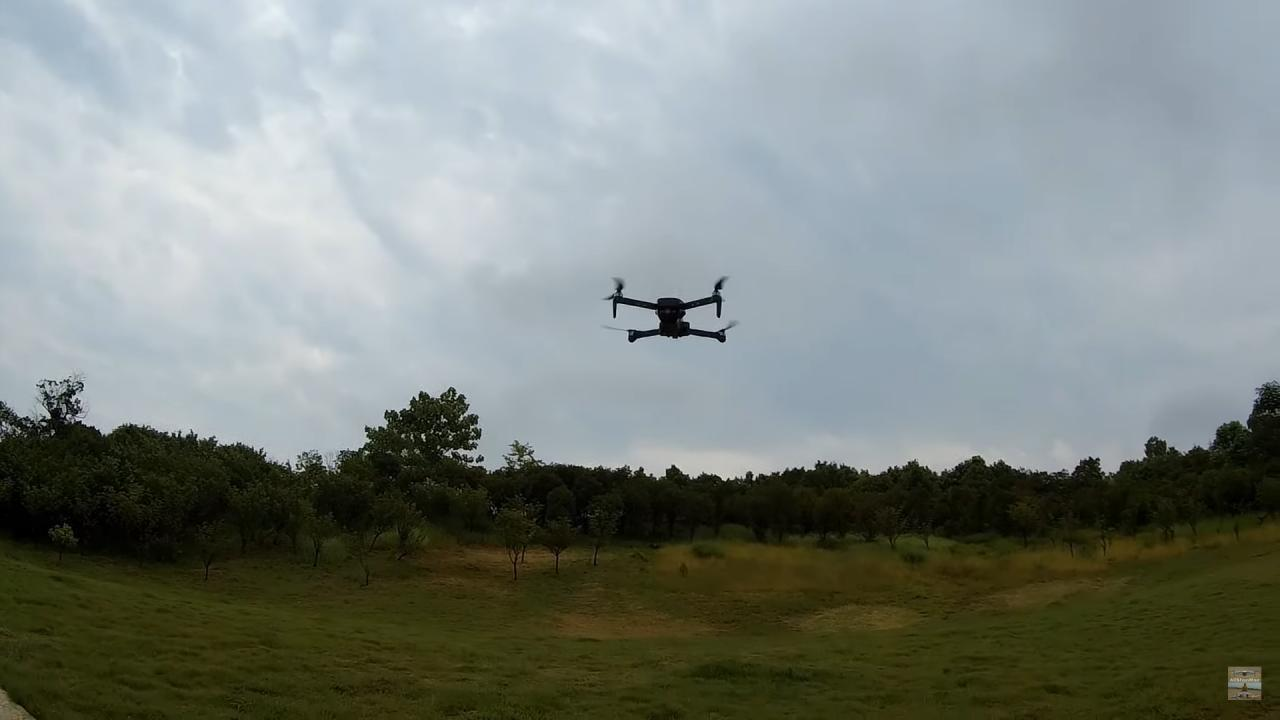Drone: (592, 264, 747, 350)
